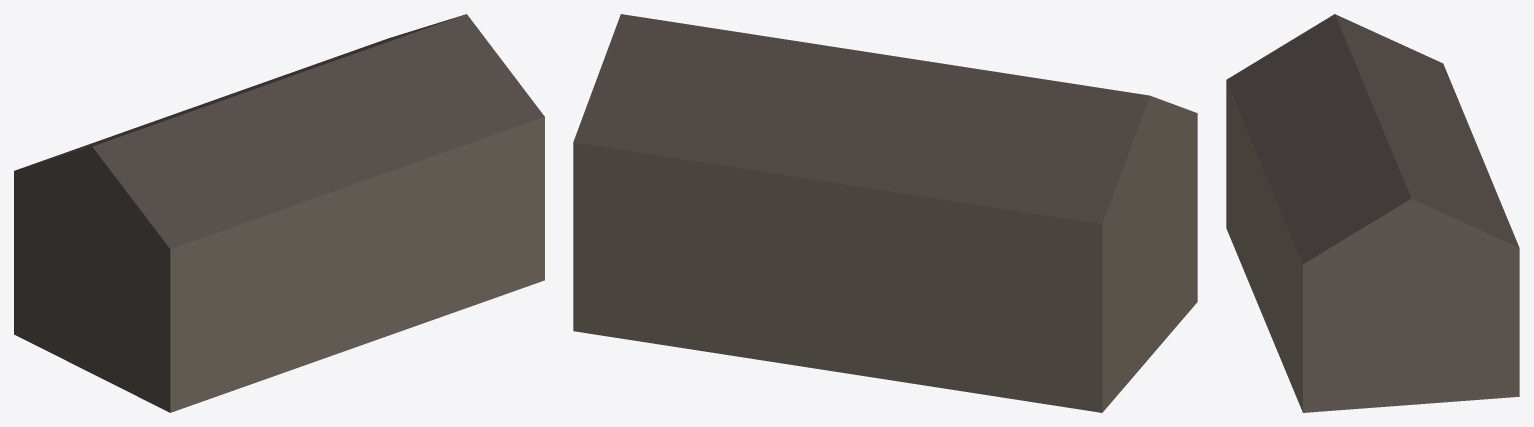
The picture shows the model from 3 angles, left to right: view 1: azimuth 30°, elevation 25°; view 2: azimuth 150°, elevation 25°; view 3: azimuth 270°, elevation 25°; orthographic projection. The views are drawn at different scales.
Visible parts, largest first — view 1: HP-w1376988676; view 2: HP-w1376988676; view 3: HP-w1376988676.
Boxes of the visible parts, left/top/right/bottom form: HP-w1376988676: left=14, top=14, right=544, bottom=412; HP-w1376988676: left=573, top=14, right=1197, bottom=412; HP-w1376988676: left=1226, top=14, right=1519, bottom=412.
Size of the model in its own units: 17.4 by 8.33 by 10.73.
